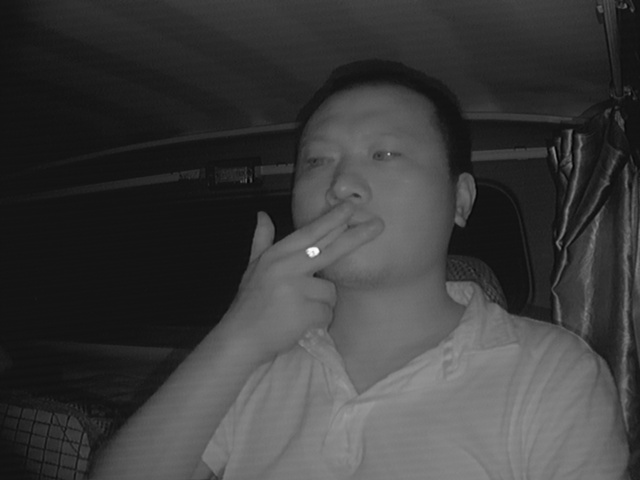hand: (279, 204, 380, 329)
